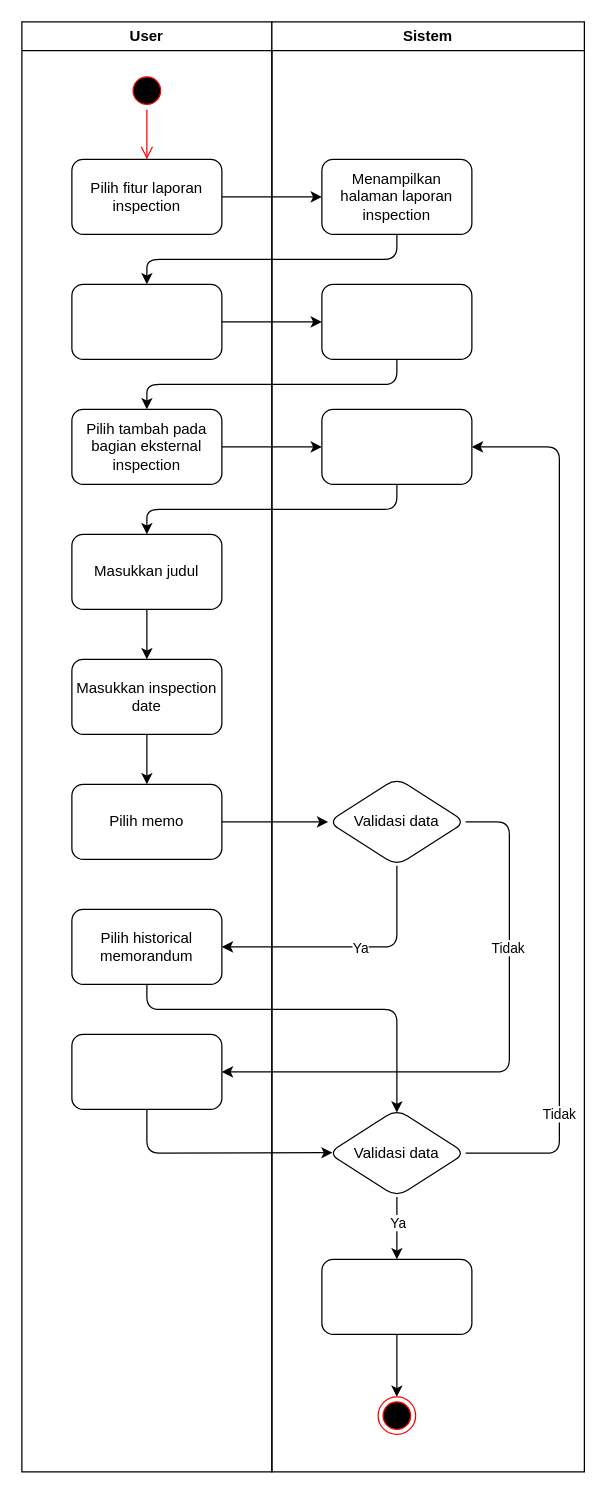
The diagram is 606 pixels wide and 1494 high, and some of its shapes have lost their labels. The shapes that lost their labels are listed below. From the top down, each one's centre as x and y in pixels, then its label:
At (146,321): "Pilih detail (icon settings) pada salah satu data laporan inspection".
At (396,321): "Menampilkan halaman eksternal inspection".
At (396,446): "Menampilkan tambah data halaman eksternal inspection".
At (146,1071): "Unggah laporan file".
At (396,1296): "Berhasil menyimpan data eksternal inspection".
